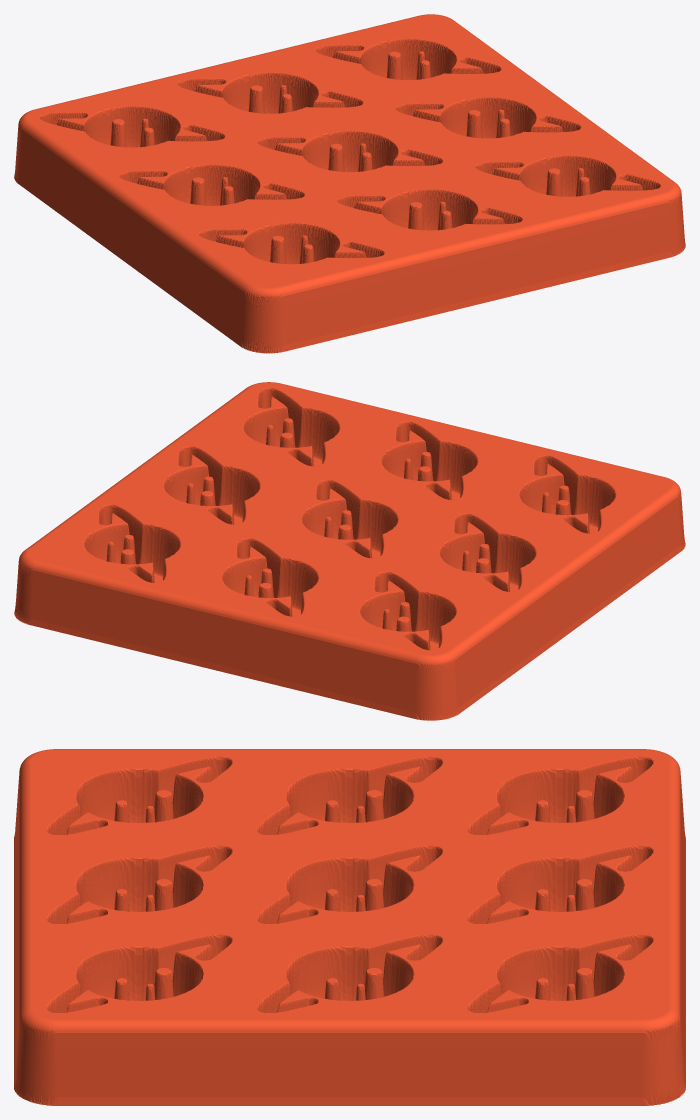
Rendered from mold.glb.
3 renders of one model, top to bottom at view 1: azimuth 30°, elevation 25°; view 2: azimuth 150°, elevation 25°; view 3: azimuth 270°, elevation 25°, orthographic. The views are drawn at different scales.
Visible parts, largest first — view 1: geometry_0; view 2: geometry_0; view 3: geometry_0.
Boxes of the visible parts, box(x1,y1,x2,y2) form: geometry_0: box(14, 14, 685, 353); geometry_0: box(14, 382, 685, 720); geometry_0: box(14, 749, 685, 1105).
Size of the model in its own units: 0.1402 by 0.0182 by 0.1402.
